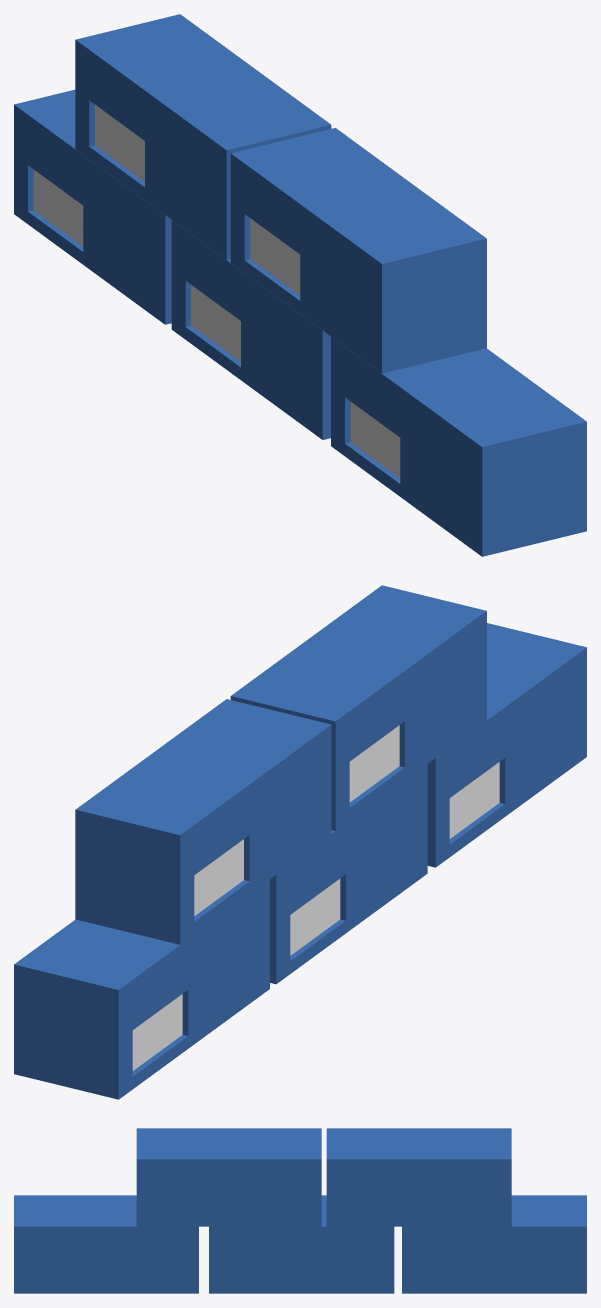
The model's file is 14 Storage Box_2.FBX.
3 views of the same model, one above another, from view 1: azimuth 30°, elevation 25°; view 2: azimuth 150°, elevation 25°; view 3: azimuth 270°, elevation 25° (orthographic). The views are drawn at different scales.
Visible parts, largest first — view 1: Box046, Box045, Box047, Box043, Box044; view 2: Box047, Box043, Box046, Box045, Box044; view 3: Box046, Box047, Box045, Box043, Box044.
Part boxes in pixels (box(x1,y1,x2,y2)): Box046: box(230, 128, 486, 373); Box045: box(331, 336, 586, 556); Box047: box(75, 14, 331, 259); Box043: box(14, 89, 171, 324); Box044: box(171, 220, 330, 439); Box047: box(75, 699, 331, 944); Box043: box(14, 879, 269, 1099); Box046: box(230, 585, 486, 830); Box045: box(427, 623, 586, 867); Box044: box(270, 764, 427, 984); Box046: box(136, 1128, 321, 1226); Box047: box(326, 1128, 511, 1226); Box045: box(14, 1195, 198, 1293); Box043: box(402, 1195, 586, 1293); Box044: box(209, 1195, 394, 1293).
Bounding box in the file's own units: 400 × 801 × 3096.
